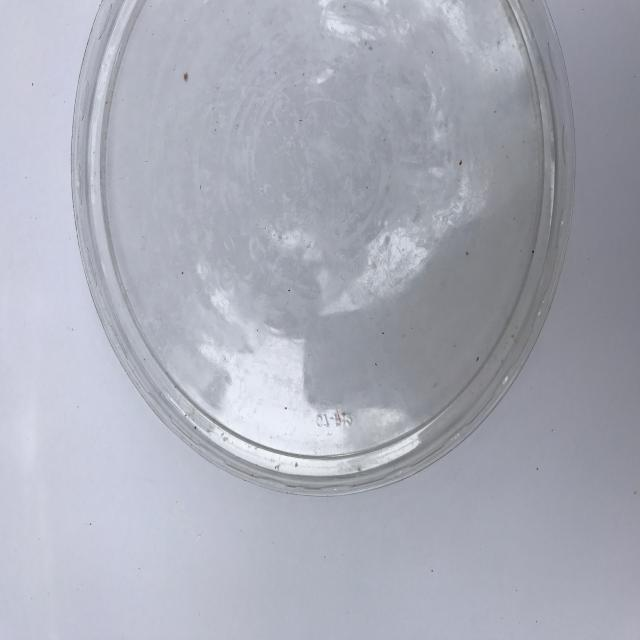plastic: (70, 0, 575, 497)
